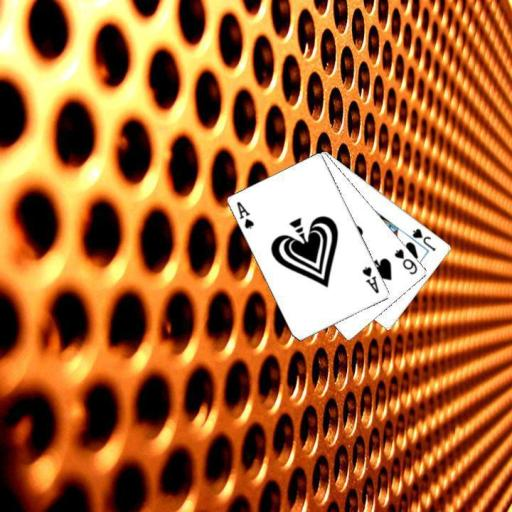card-corner: (391, 246, 419, 276), (409, 226, 437, 252), (359, 263, 381, 295), (234, 198, 256, 230)
